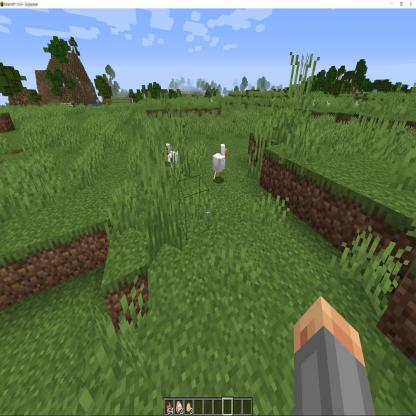minecraft-pigs: (162, 138, 182, 184), (209, 140, 230, 183), (325, 100, 331, 109), (311, 100, 316, 110)
